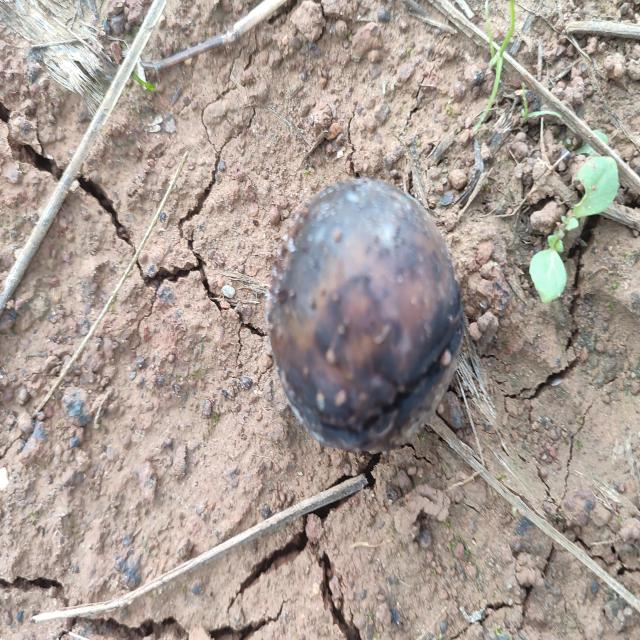damaged: (266, 178, 464, 452)
